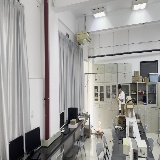fire: (98, 119, 102, 132)
